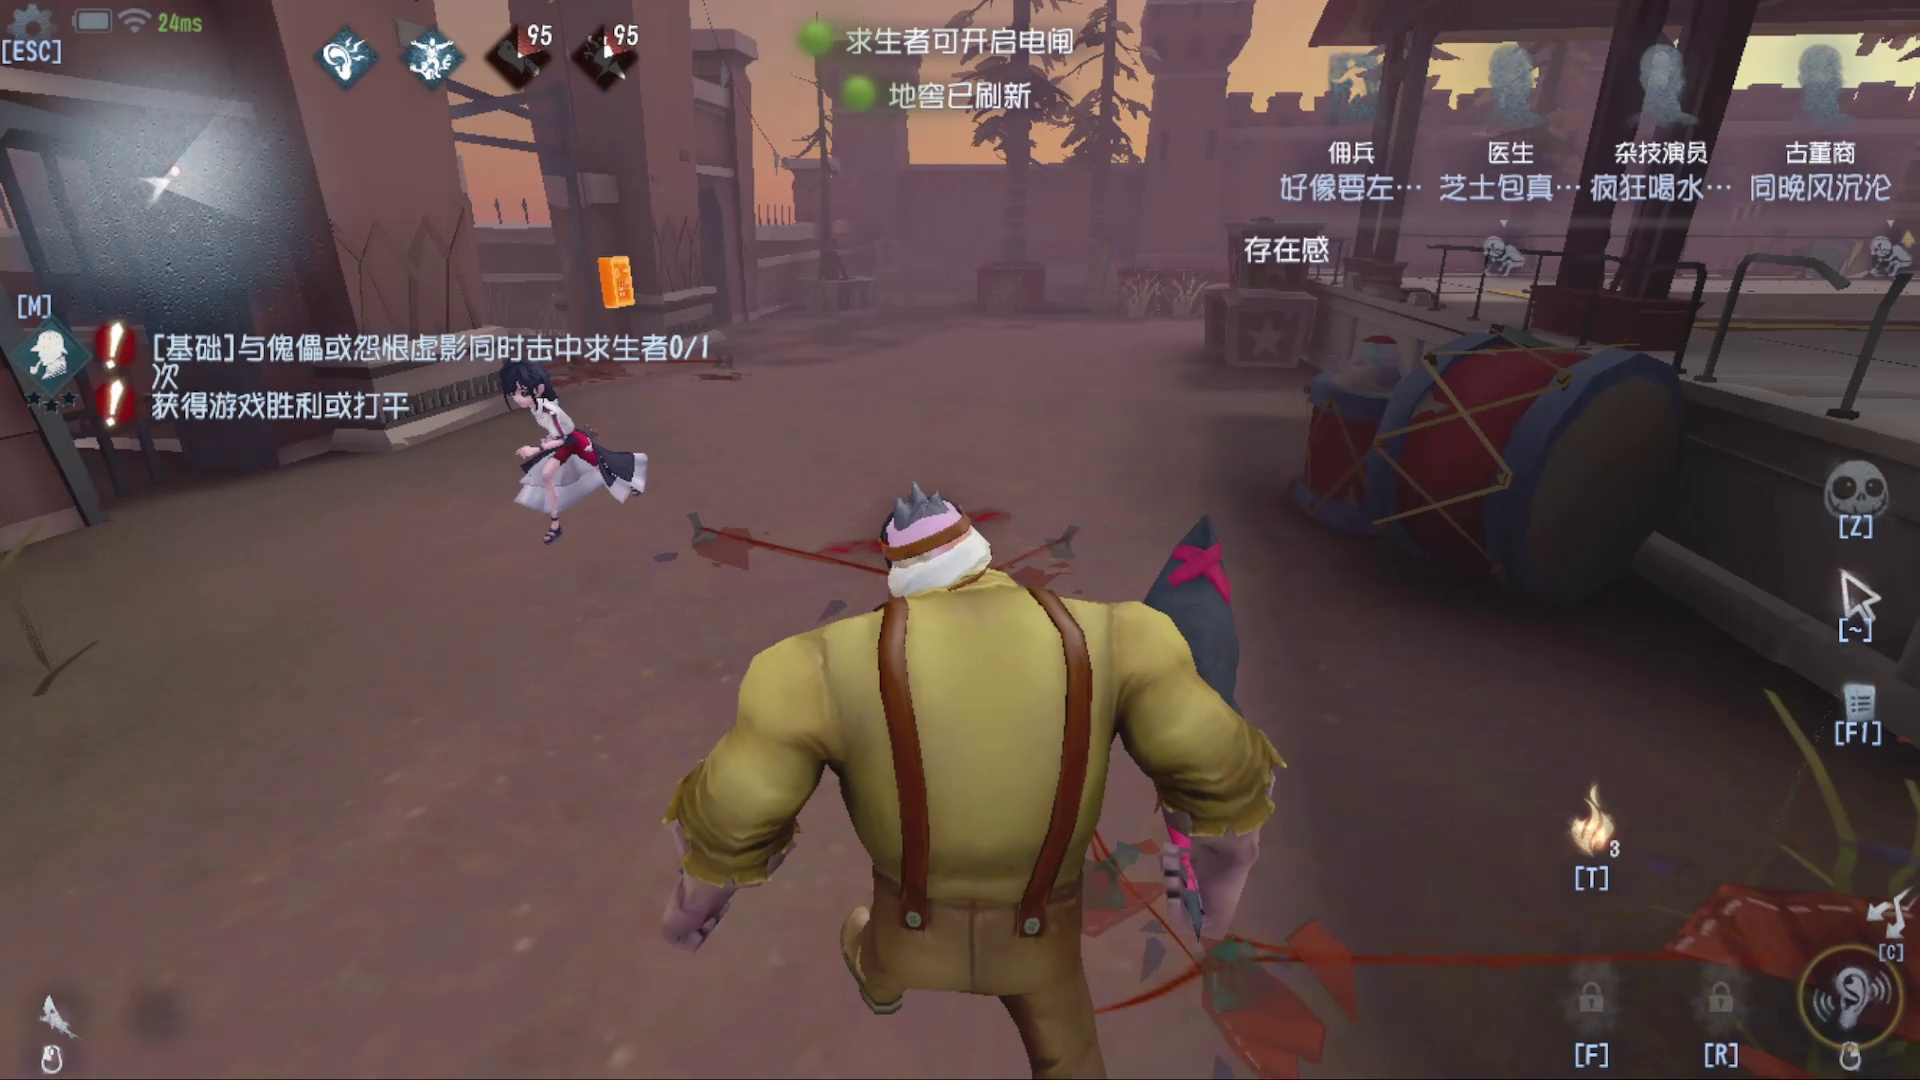求生者: (473, 357, 659, 533)
脚印: (671, 477, 860, 609)
